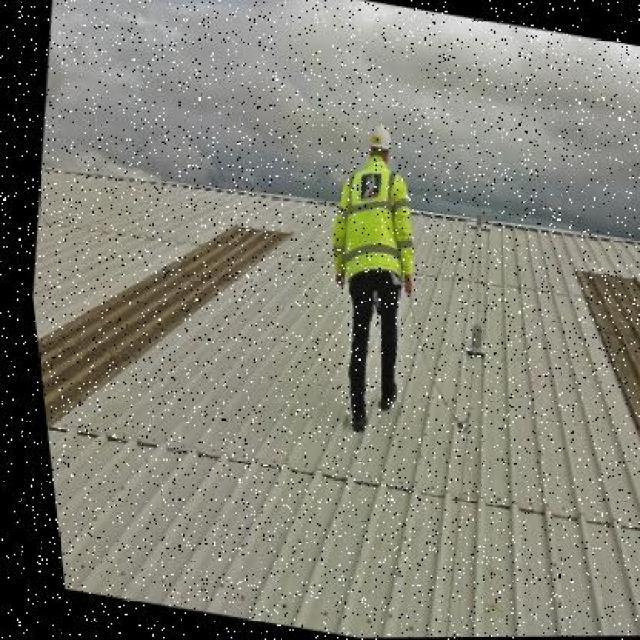helmet: (357, 119, 395, 157)
vest: (317, 151, 425, 305)
